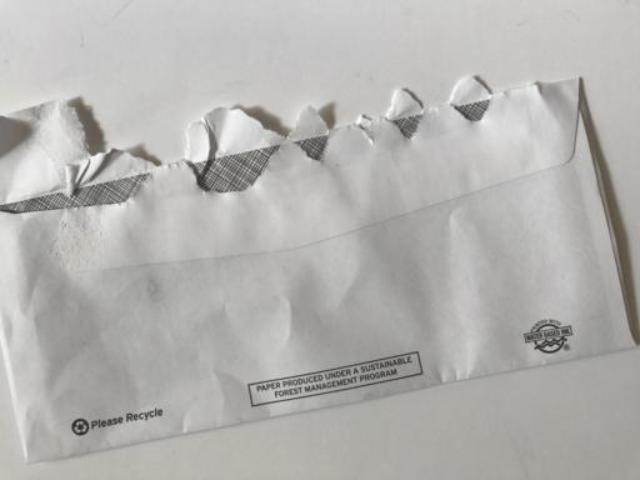cardboard paper: (0, 75, 634, 460)
